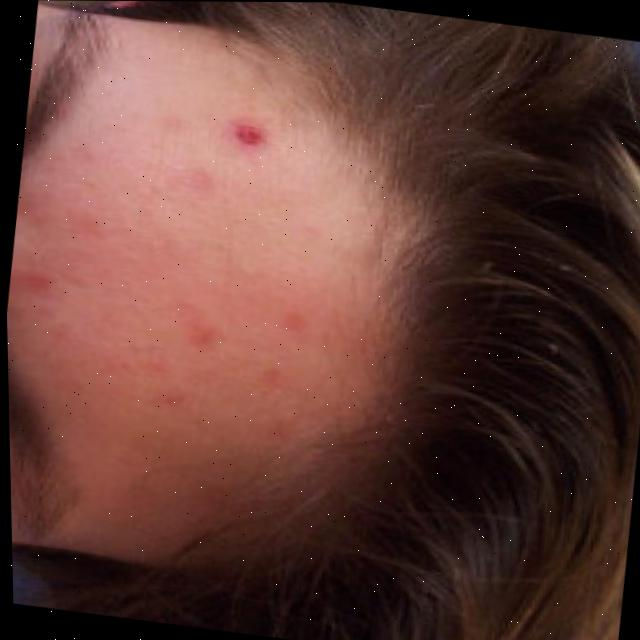Acne: (152, 252, 306, 439), (225, 107, 275, 159)
